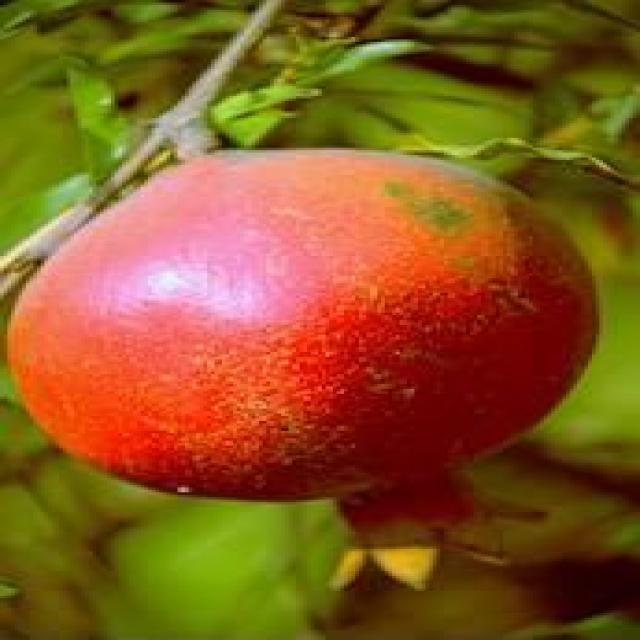Pomegranate: (0, 146, 603, 588)
